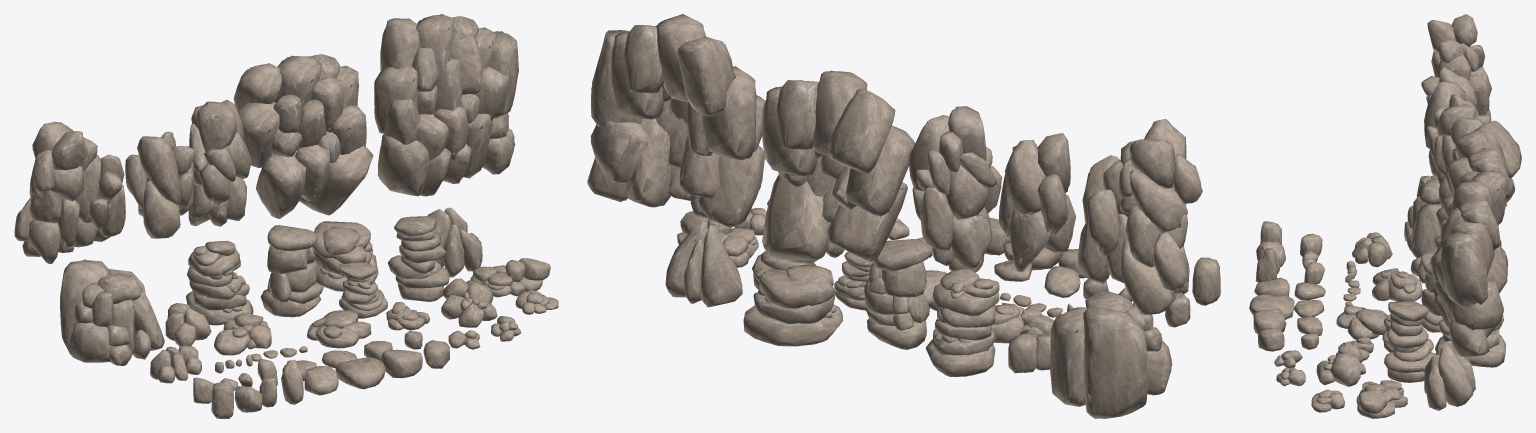
The model's file is Orc Cliffs A.fbx.
3 views of the same model, side by side, from view 1: azimuth 30°, elevation 25°; view 2: azimuth 150°, elevation 25°; view 3: azimuth 270°, elevation 25° (orthographic). The views are drawn at different scales.
Visible parts, largest first — view 1: Rocks_Mountainside_1A5, Rocks_Mountainside_1A4, Rocks_Mountainside_1A3, Rocks_Mountainside_1A5.001, Rock_Group_Large_1A7, Rocks_Mountainside_1A4.001, Rocks_Mountainside_1A2, Rocks_Mountainside_1A5.002, Rocks_Mountainside_1A1, Rocks_Mountainside_1A3.001, Rock_Group_Large_1A5, Rocks_Mountainside_1A4.002 (+48 smaller); view 2: Rocks_Mountainside_1A5, Rocks_Mountainside_1A4, Rocks_Mountainside_1A3, Rocks_Mountainside_1A5.001, Rocks_Mountainside_1A2, Rock_Group_Large_1A7, Rocks_Mountainside_1A4.001, Rocks_Mountainside_1A5.002, Rocks_Mountainside_1A1, Rock_Group_Large_1A5, Rocks_Mountainside_1A4.002, Rock_Group_Large_1A2 (+27 smaller); view 3: Rocks_Mountainside_1A5, Rocks_Mountainside_1A5.001, Rocks_Mountainside_1A3, Rocks_Mountainside_1A4, Rock_Group_Large_1A3, Rocks_Mountainside_1A5.002, Rock_Group_Large_1A6, Rocks_Mountainside_1A4.001, Rocks_Mountainside_1A2, Rock_Group_Large_1A7, Rock_Group_Large_1A3.001, Rock_Group_Medium_1A9 (+47 smaller).
Part boxes in pixels (x1,y1,x2,y2): Rocks_Mountainside_1A5: [374, 15, 518, 196]; Rocks_Mountainside_1A4: [233, 54, 372, 218]; Rocks_Mountainside_1A3: [14, 122, 125, 263]; Rocks_Mountainside_1A5.001: [374, 16, 517, 196]; Rock_Group_Large_1A7: [60, 259, 164, 365]; Rocks_Mountainside_1A4.001: [234, 54, 372, 218]; Rocks_Mountainside_1A2: [188, 100, 251, 225]; Rocks_Mountainside_1A5.002: [374, 14, 518, 196]; Rocks_Mountainside_1A1: [125, 131, 194, 238]; Rocks_Mountainside_1A3.001: [16, 121, 125, 262]; Rock_Group_Large_1A5: [186, 241, 253, 325]; Rocks_Mountainside_1A4.002: [236, 54, 373, 218]; Rocks_Mountainside_1A5: [587, 15, 765, 227]; Rocks_Mountainside_1A4: [762, 71, 913, 263]; Rocks_Mountainside_1A3: [1078, 119, 1201, 314]; Rocks_Mountainside_1A5.001: [588, 15, 765, 227]; Rocks_Mountainside_1A2: [909, 106, 1001, 267]; Rock_Group_Large_1A7: [1050, 291, 1171, 418]; Rocks_Mountainside_1A4.001: [762, 70, 915, 263]; Rocks_Mountainside_1A5.002: [587, 14, 765, 227]; Rocks_Mountainside_1A1: [999, 133, 1074, 271]; Rock_Group_Large_1A5: [926, 268, 999, 376]; Rocks_Mountainside_1A4.002: [762, 71, 914, 262]; Rock_Group_Large_1A2: [743, 265, 842, 346]; Rocks_Mountainside_1A5: [1430, 171, 1506, 357]; Rocks_Mountainside_1A5.001: [1431, 172, 1506, 357]; Rocks_Mountainside_1A3: [1421, 15, 1491, 120]; Rocks_Mountainside_1A4: [1436, 121, 1521, 292]; Rock_Group_Large_1A3: [1384, 301, 1433, 382]; Rocks_Mountainside_1A5.002: [1429, 170, 1506, 356]; Rock_Group_Large_1A6: [1424, 341, 1475, 410]; Rocks_Mountainside_1A4.001: [1437, 120, 1520, 289]; Rocks_Mountainside_1A2: [1434, 104, 1490, 206]; Rock_Group_Large_1A7: [1404, 175, 1441, 257]; Rock_Group_Large_1A3.001: [1384, 301, 1434, 382]; Rock_Group_Medium_1A9: [1356, 380, 1407, 418].
Bounding box in the file's own units: 8942 × 4150 × 4654.
